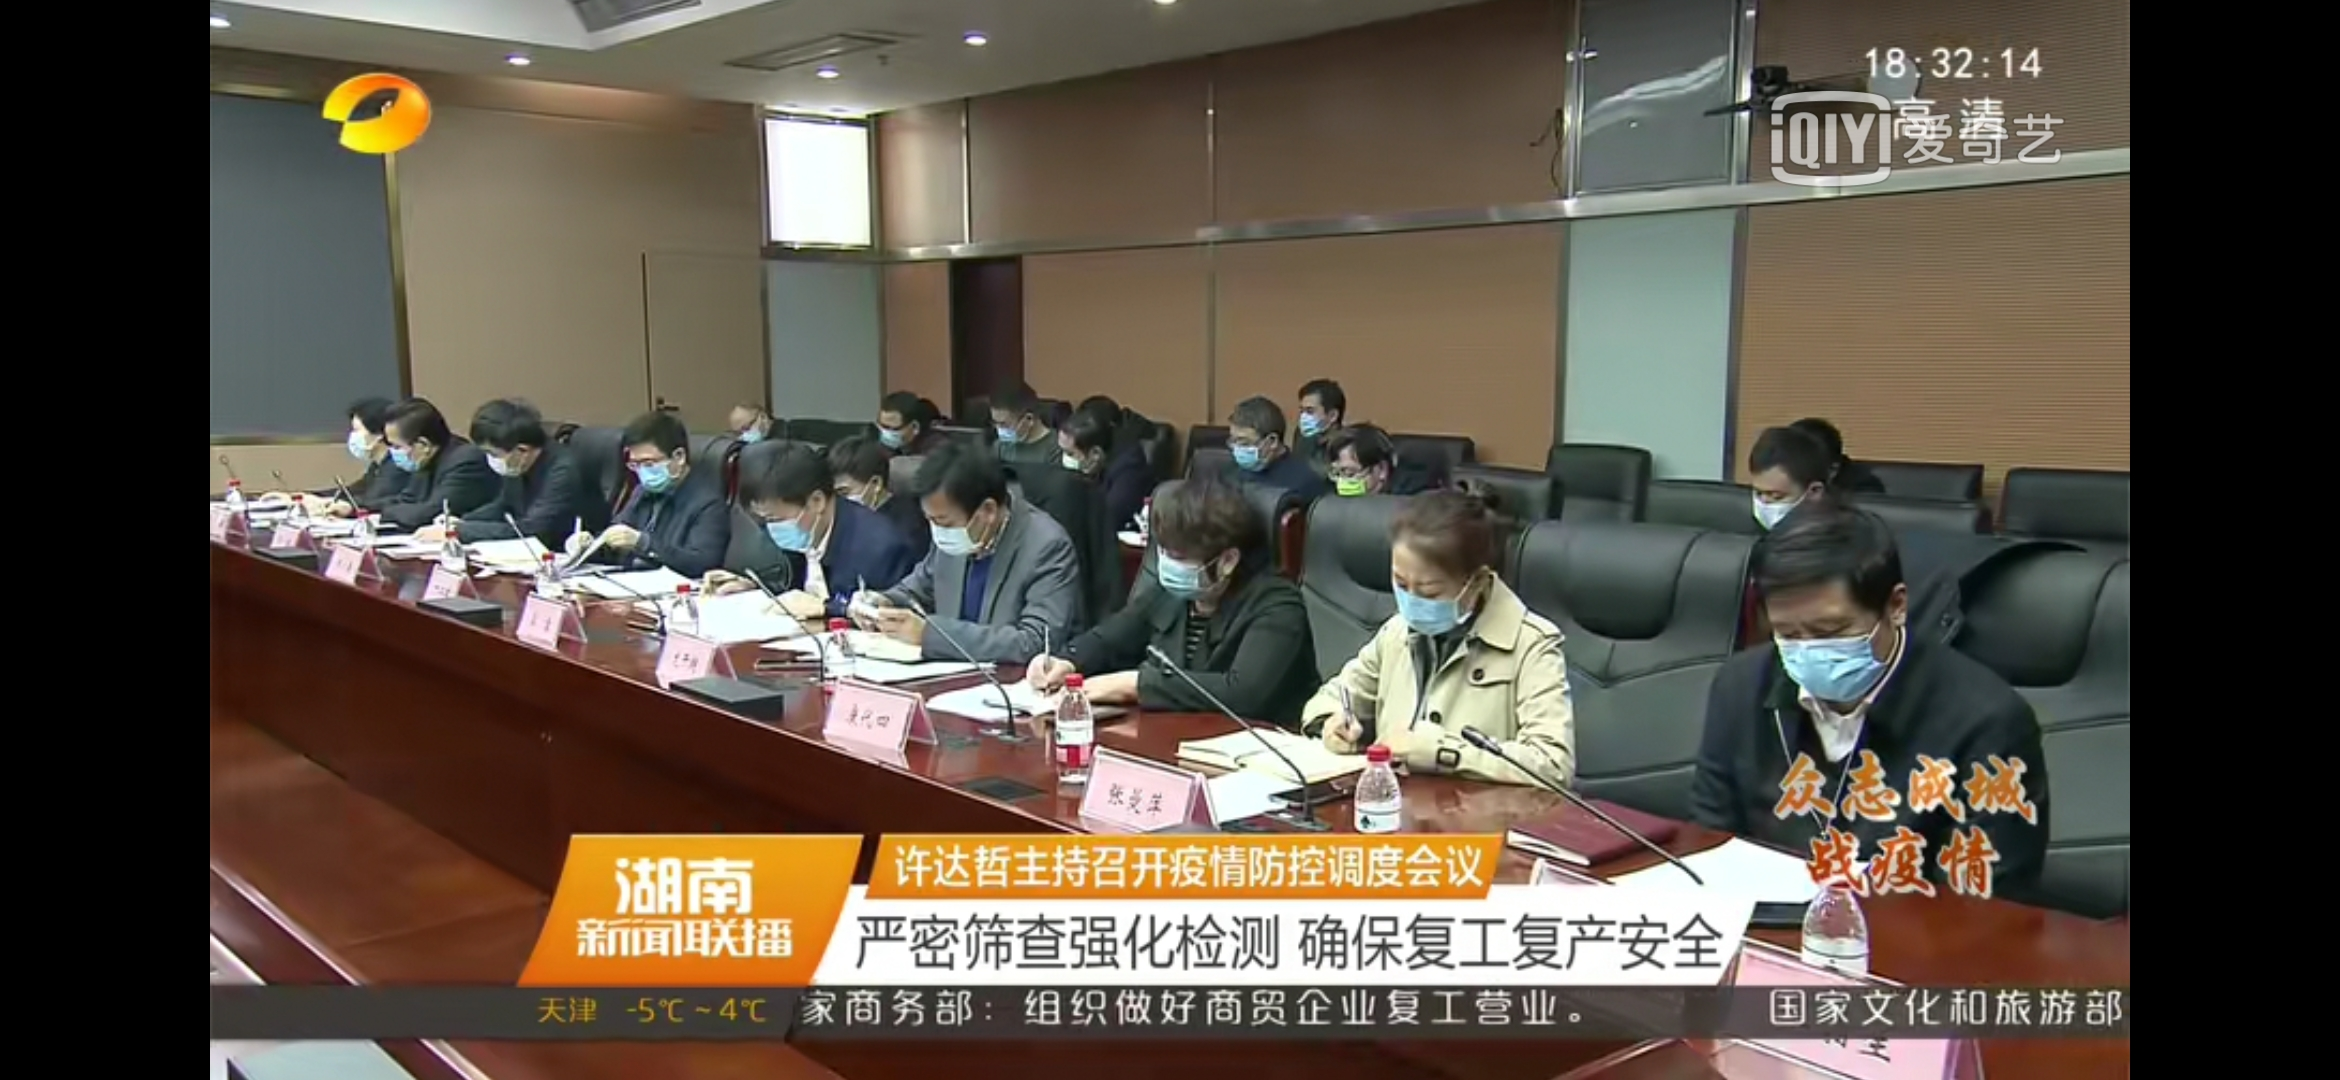correctlyWear: (1761, 585, 1909, 709), (1386, 553, 1495, 637), (1155, 540, 1249, 607), (754, 489, 833, 559), (924, 497, 1001, 561), (1752, 468, 1818, 530), (624, 443, 689, 497), (1227, 424, 1282, 473), (1330, 456, 1392, 500), (833, 462, 880, 513), (484, 440, 540, 480), (390, 431, 434, 476), (1295, 397, 1342, 439), (1057, 439, 1106, 477), (346, 418, 384, 465), (992, 409, 1036, 449), (877, 413, 921, 450), (739, 412, 770, 445)
